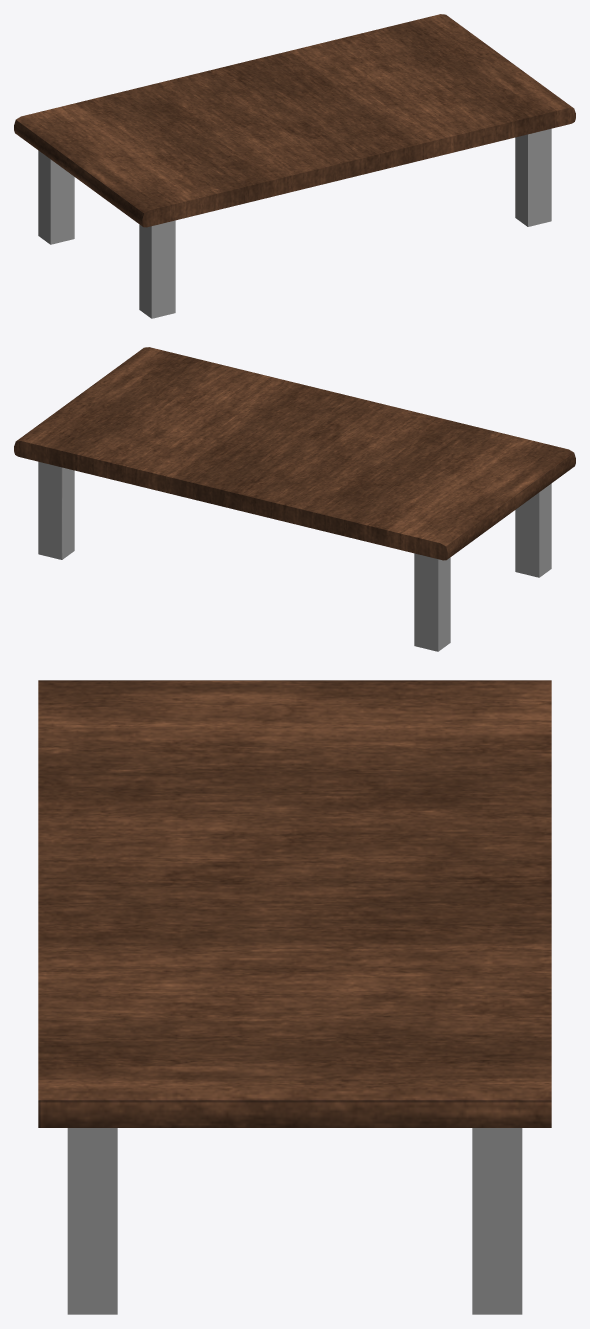
File: table.obj
The picture shows the model from 3 angles, top to bottom: view 1: azimuth 30°, elevation 25°; view 2: azimuth 150°, elevation 25°; view 3: azimuth 270°, elevation 25°; orthographic projection. The views are drawn at different scales.
Visible parts, largest first — view 1: Box073__0_Box073__0_Scene_-_Root; view 2: Box073__0_Box073__0_Scene_-_Root; view 3: Box073__0_Box073__0_Scene_-_Root.
Part boxes in pixels (bbox=[...]): Box073__0_Box073__0_Scene_-_Root: bbox=[14, 14, 575, 318]; Box073__0_Box073__0_Scene_-_Root: bbox=[14, 347, 575, 651]; Box073__0_Box073__0_Scene_-_Root: bbox=[38, 680, 551, 1314].
Size of the model in its own units: 1.88 by 0.4826 by 0.9646.
Materials: 1 (1 with a texture image).
